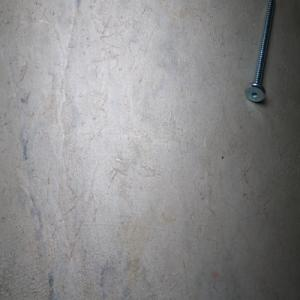Bolt: (244, 0, 275, 103)
